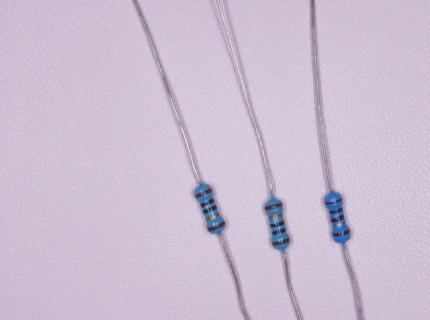Black band: (202, 204, 218, 215), (200, 198, 215, 208), (330, 214, 345, 223), (269, 220, 285, 228), (271, 228, 287, 235), (329, 206, 343, 214)
Brown band: (207, 220, 226, 233), (195, 188, 213, 199), (271, 237, 290, 246), (332, 228, 350, 237), (265, 202, 283, 210), (325, 198, 343, 205)
Gold band: (205, 212, 220, 222), (268, 213, 283, 221), (332, 221, 346, 227)
